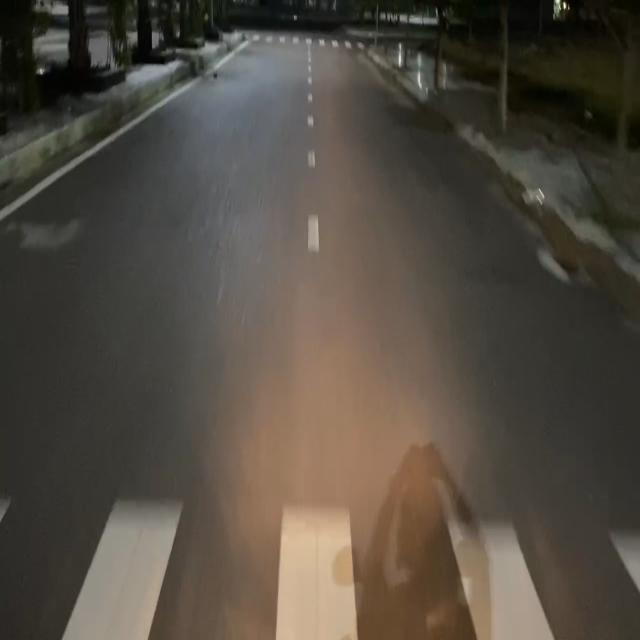walk-crossing: (1, 496, 640, 639), (246, 32, 370, 52)
